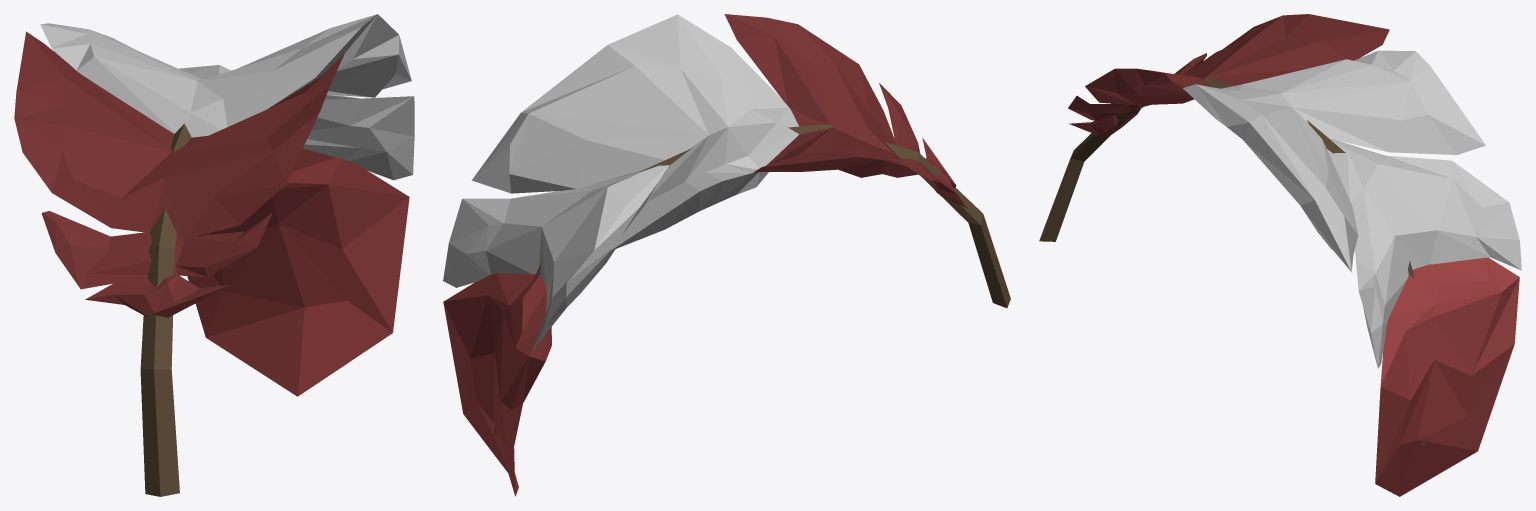
File: Feather_05.FBX
3 renders of one model, left to right at view 1: azimuth 30°, elevation 25°; view 2: azimuth 150°, elevation 25°; view 3: azimuth 270°, elevation 25°, orthographic. The views are drawn at different scales.
Parts seen in each view (by area): view 1: Feather_05; view 2: Feather_05; view 3: Feather_05.
Boxes of the visible parts, x1=… form: Feather_05: x1=14, y1=14, x2=414, y2=496; Feather_05: x1=443, y1=14, x2=1010, y2=496; Feather_05: x1=1039, y1=14, x2=1521, y2=496.
Size of the model in its own units: 1.88 by 1.78 by 2.01.
